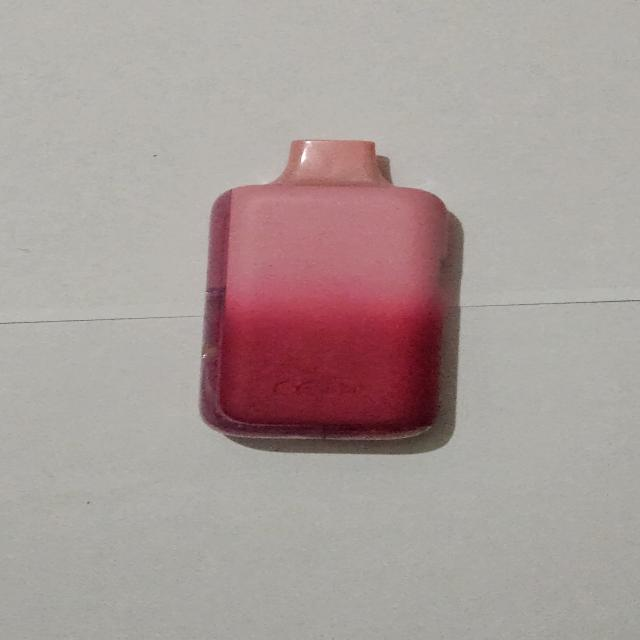Hazard: (198, 138, 462, 443)
